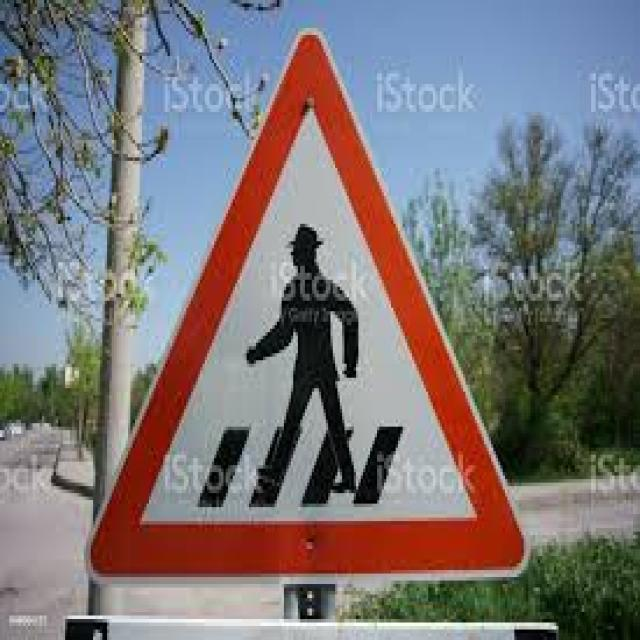Attention-Passage-Pieton: (82, 29, 538, 585)
